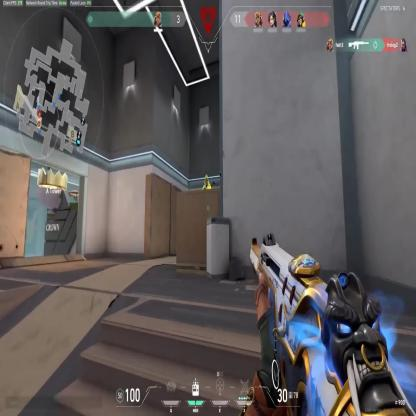enemy: (200, 172, 212, 230)
enemy_head: (204, 173, 209, 184)
